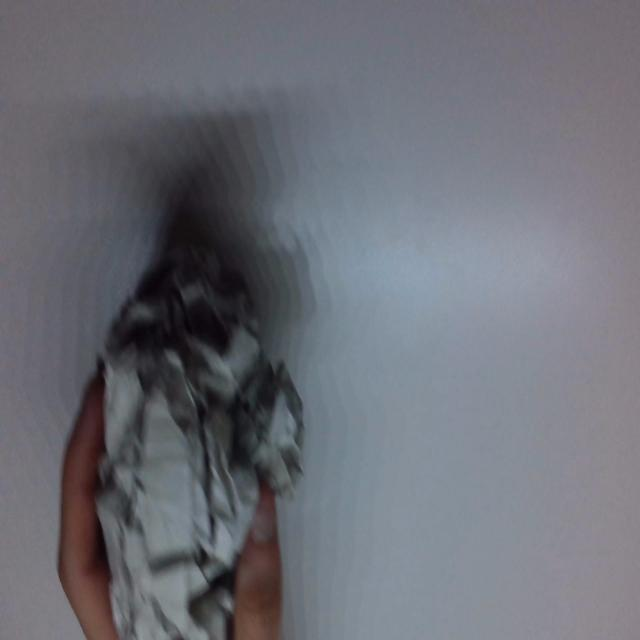Paper: (102, 248, 302, 640)
